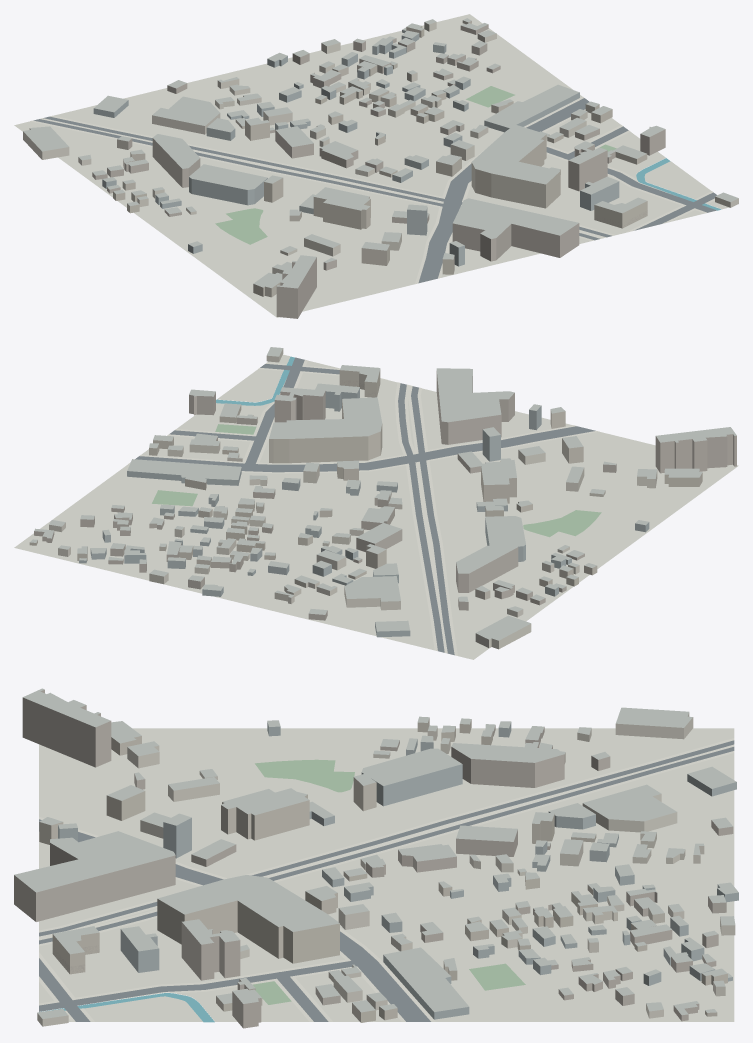
3 views of the same model, one above another, from view 1: azimuth 30°, elevation 25°; view 2: azimuth 150°, elevation 25°; view 3: azimuth 270°, elevation 25° (orthographic). The views are drawn at different scales.
Parts seen in each view (by area): view 1: city; view 2: city; view 3: city.
Part boxes in pixels (bbox=[...]): city: bbox=[14, 14, 738, 318]; city: bbox=[14, 347, 738, 659]; city: bbox=[14, 688, 738, 1028].
Bounding box in the file's own units: 527 × 32.08 × 521.
